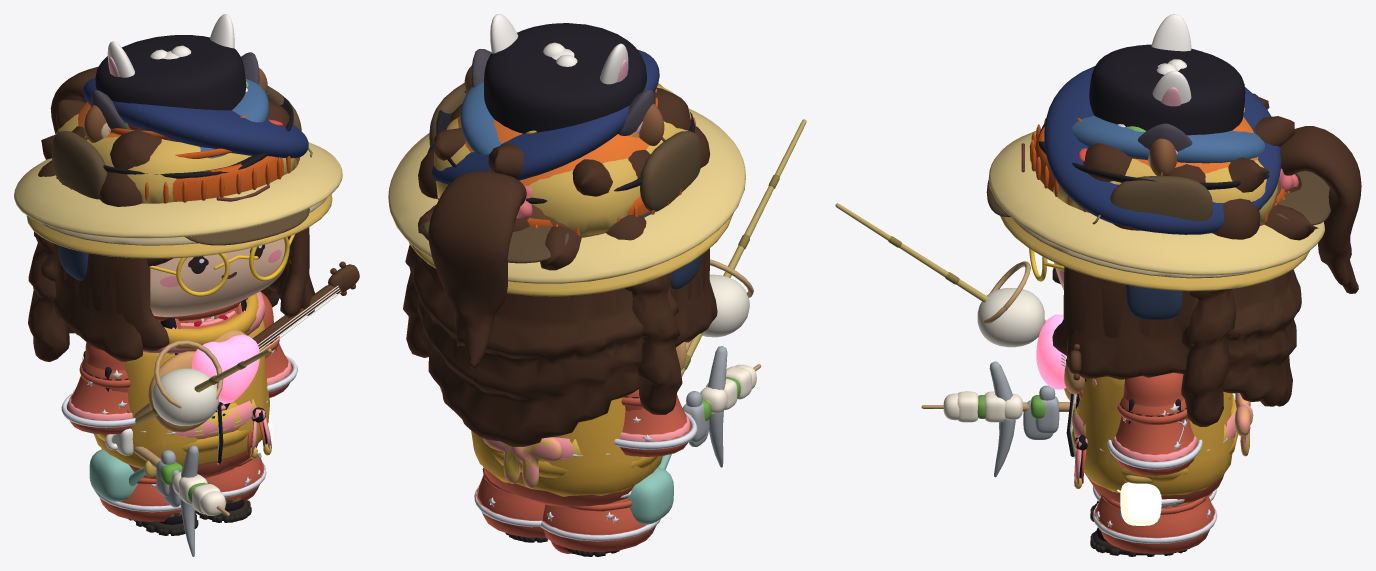
Rendered from avatar.glb.
The picture shows the model from 3 angles, left to right: view 1: azimuth 30°, elevation 25°; view 2: azimuth 150°, elevation 25°; view 3: azimuth 270°, elevation 25°; orthographic projection. The views are drawn at different scales.
Visible parts, largest first — view 1: Hat_straw, Hat_tophat, Top_puffer, Hat_buckethat, Hat_painterberet, Hair_bob, Hair_wavylong, Head, Hat_deerstalker, Hat_cozybeanie, Net, Hair_drill (+32 smaller); view 2: Hair_wavylong, Hat_straw, Hat_tophat, Hair_ponytail_Prop, Hat_buckethat, Top_puffer, Hair_drill, Hat_deerstalker, Hat_painterberet, Hair_hero, Bottom_starry_LegR, Hat_cozybeanie (+18 smaller); view 3: Hair_wavylong, Hat_straw, Hat_tophat, Hat_painterberet, Top_puffer, Hair_ponytail_Prop, Hat_buckethat, Hair_drill, Hat_deerstalker, Bottom_starry_LegL, Hat_pioneercap, Net (+22 smaller).
Part boxes in pixels (x1,y1,x2,y2): Hat_straw: (14, 142, 342, 238); Hat_tophat: (58, 35, 293, 178); Top_puffer: (94, 294, 269, 468); Hat_buckethat: (26, 114, 332, 258); Hat_painterberet: (83, 78, 308, 158); Hair_bob: (63, 227, 309, 351); Hair_wavylong: (41, 243, 314, 361); Head: (150, 239, 287, 316); Hat_deerstalker: (51, 86, 309, 245); Hat_cozybeanie: (56, 45, 299, 203); Net: (134, 340, 223, 425); Hair_drill: (28, 231, 279, 361); Hair_wavylong: (412, 249, 717, 446); Hat_straw: (388, 108, 745, 283); Hat_tophat: (436, 23, 694, 203); Hair_ponytail_Prop: (428, 171, 532, 368); Hat_buckethat: (408, 84, 733, 296); Top_puffer: (471, 397, 662, 496); Hair_drill: (403, 245, 682, 414); Hat_deerstalker: (422, 83, 701, 263); Hat_painterberet: (427, 50, 659, 184); Hair_hero: (418, 128, 642, 270); Bottom_starry_LegR: (540, 504, 660, 551); Hat_cozybeanie: (458, 42, 695, 235); Hair_wavylong: (1067, 269, 1301, 406); Hat_straw: (988, 131, 1324, 275); Hat_tophat: (1038, 44, 1269, 189); Hat_painterberet: (1044, 66, 1281, 234); Top_puffer: (1066, 376, 1238, 495); Hair_ponytail_Prop: (1279, 126, 1361, 293); Hat_buckethat: (1000, 158, 1309, 291); Hair_drill: (1181, 289, 1235, 426); Hat_deerstalker: (986, 171, 1330, 225); Bottom_starry_LegL: (1092, 495, 1217, 554); Hat_pioneercap: (1072, 115, 1264, 163); Net: (977, 261, 1046, 347).
Size of the model in its own units: 0.8552 by 1.39 by 1.32.
